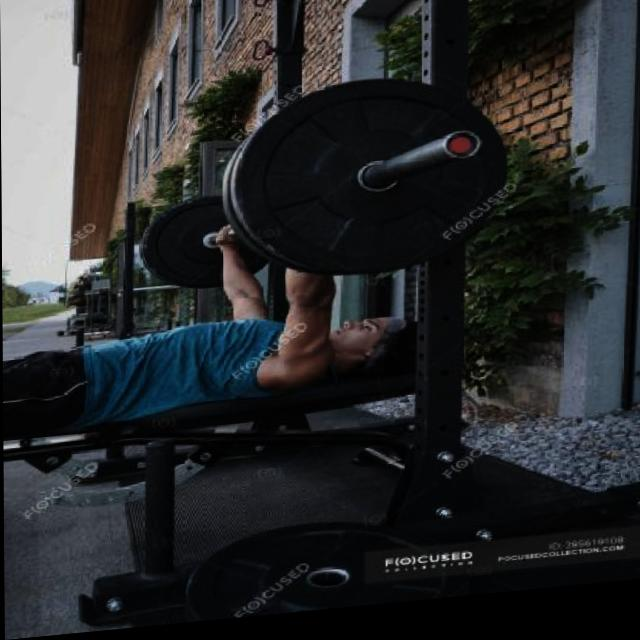barbell: (226, 73, 509, 299)
